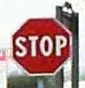stop: (11, 15, 73, 75)
